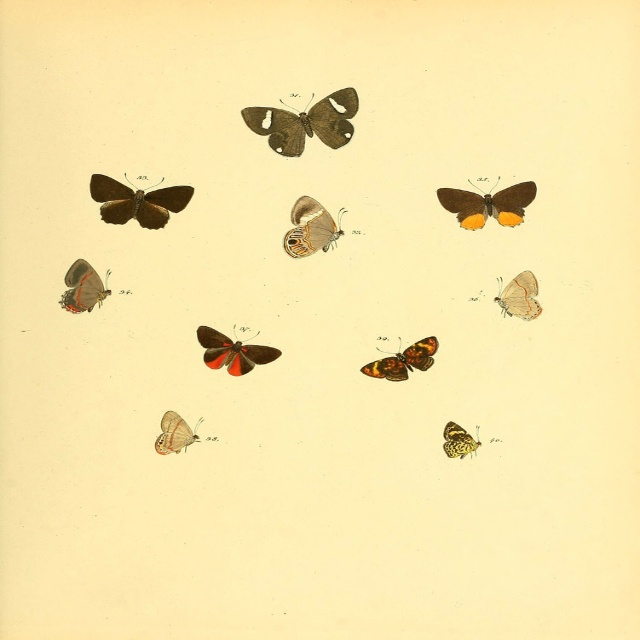Butterfly: (234, 87, 368, 160), (88, 171, 194, 232), (431, 181, 539, 231), (355, 330, 441, 388), (276, 193, 352, 256), (193, 324, 283, 377), (55, 256, 115, 317), (488, 268, 546, 324), (151, 410, 213, 453), (439, 418, 478, 465)
